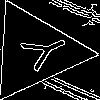Y: (10, 26, 73, 77)
